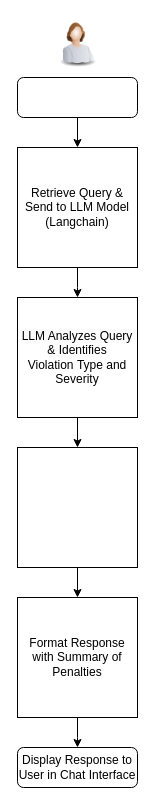
The diagram is 155 pixels wide and 805 high, and some of its shapes have lost their labels. The box of each missing label's shape, as (x1, y1, x2, y2) in pixels:
Retrieve Relevant Info on Demerit Points & Penalties from data sources: (16, 446, 138, 568)
User Inputs Traffic Violation Query: (16, 76, 138, 118)
